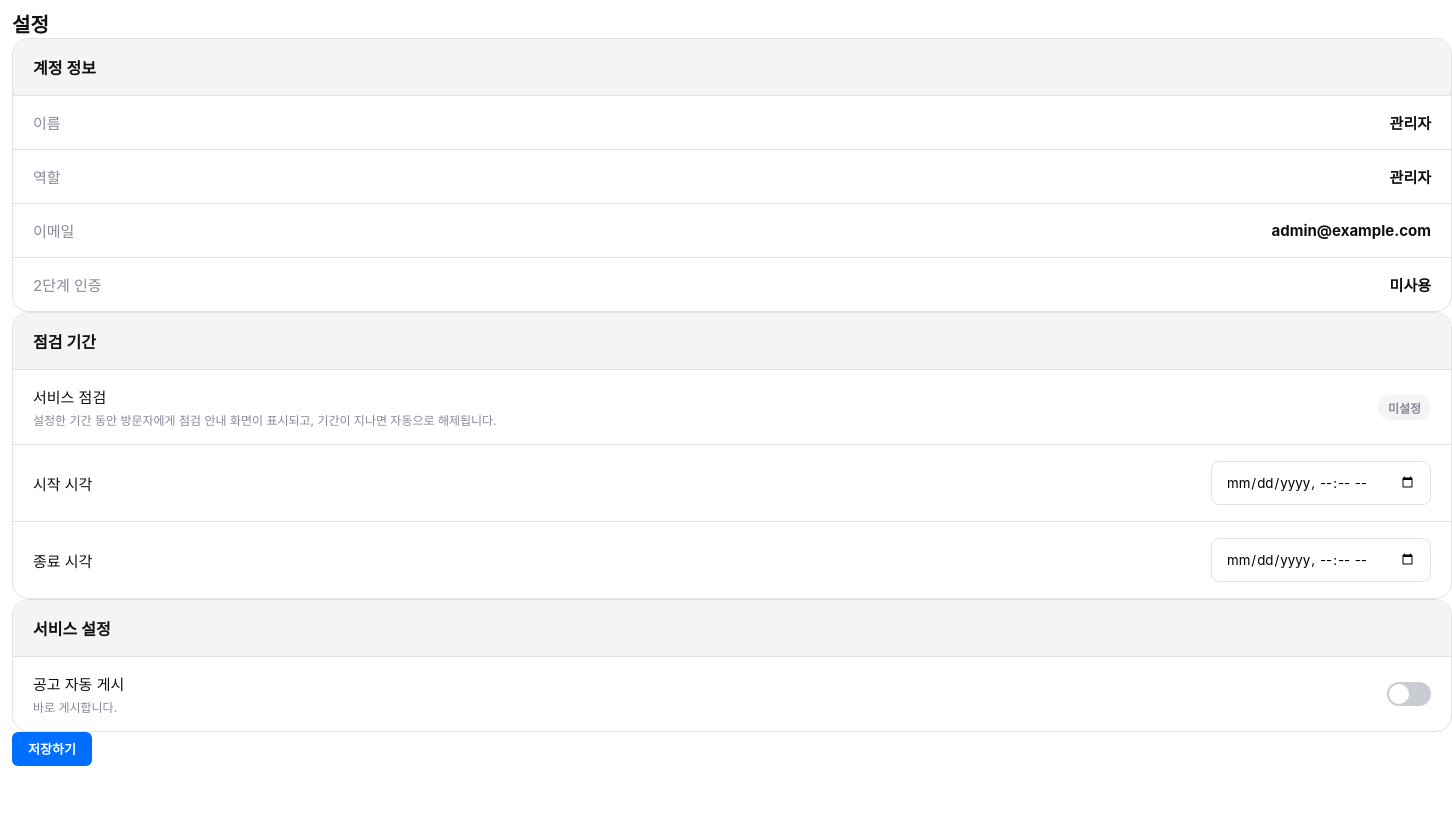
AdminSettingsScreen › 시작 시각이 종료 시각보다 같거나 늦으면 저장하지 않고 안내한다
Type "2099-01-01T05:00" into the field named "점검 시작 시각".
click(1321, 483); type("2099-01-01T05:00")  # box [1211,461,1431,505]
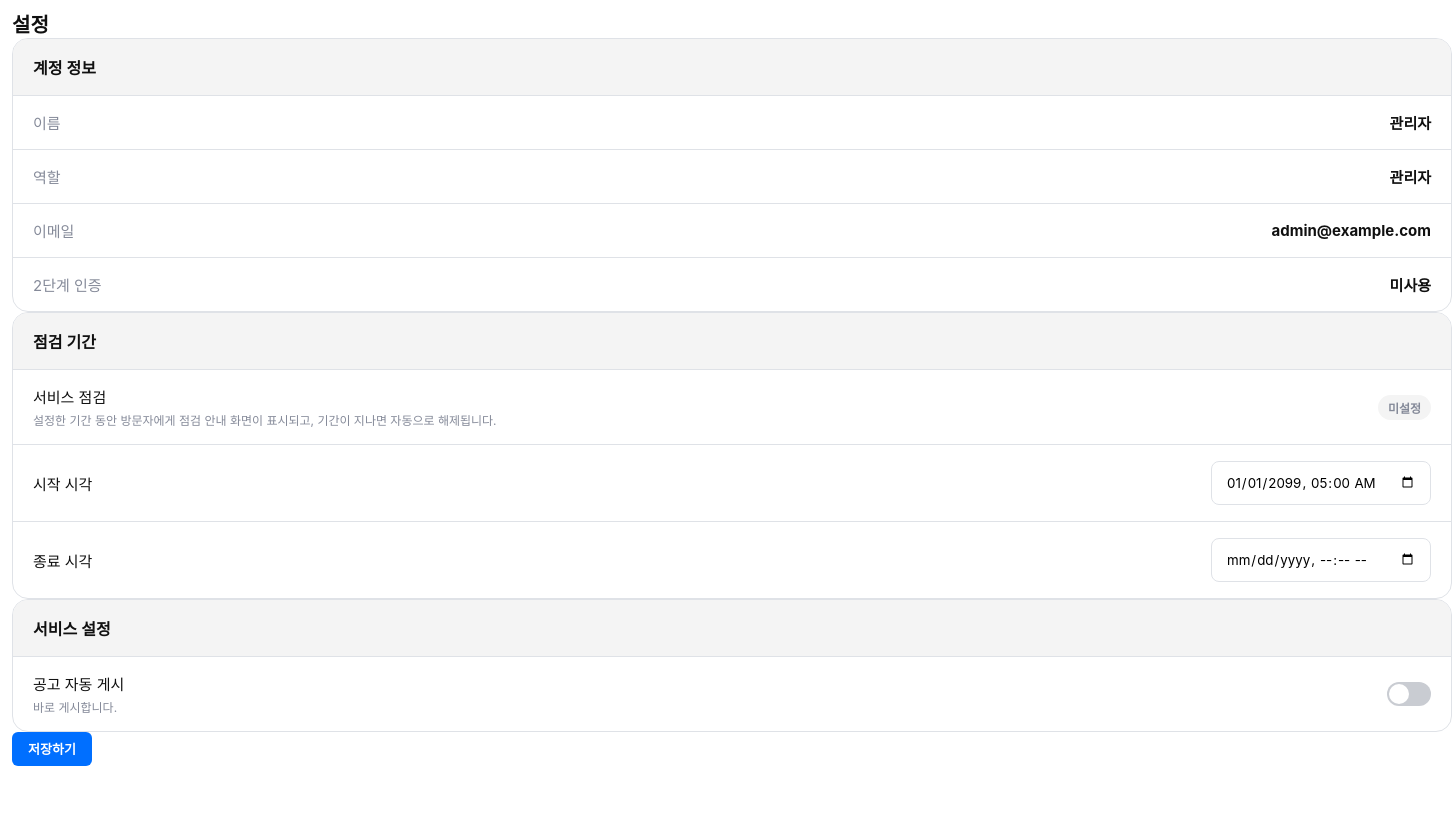
Type "2099-01-01T04:00" into the field named "점검 종료 시각".
click(1321, 560); type("2099-01-01T04:00")  # box [1211,538,1431,582]
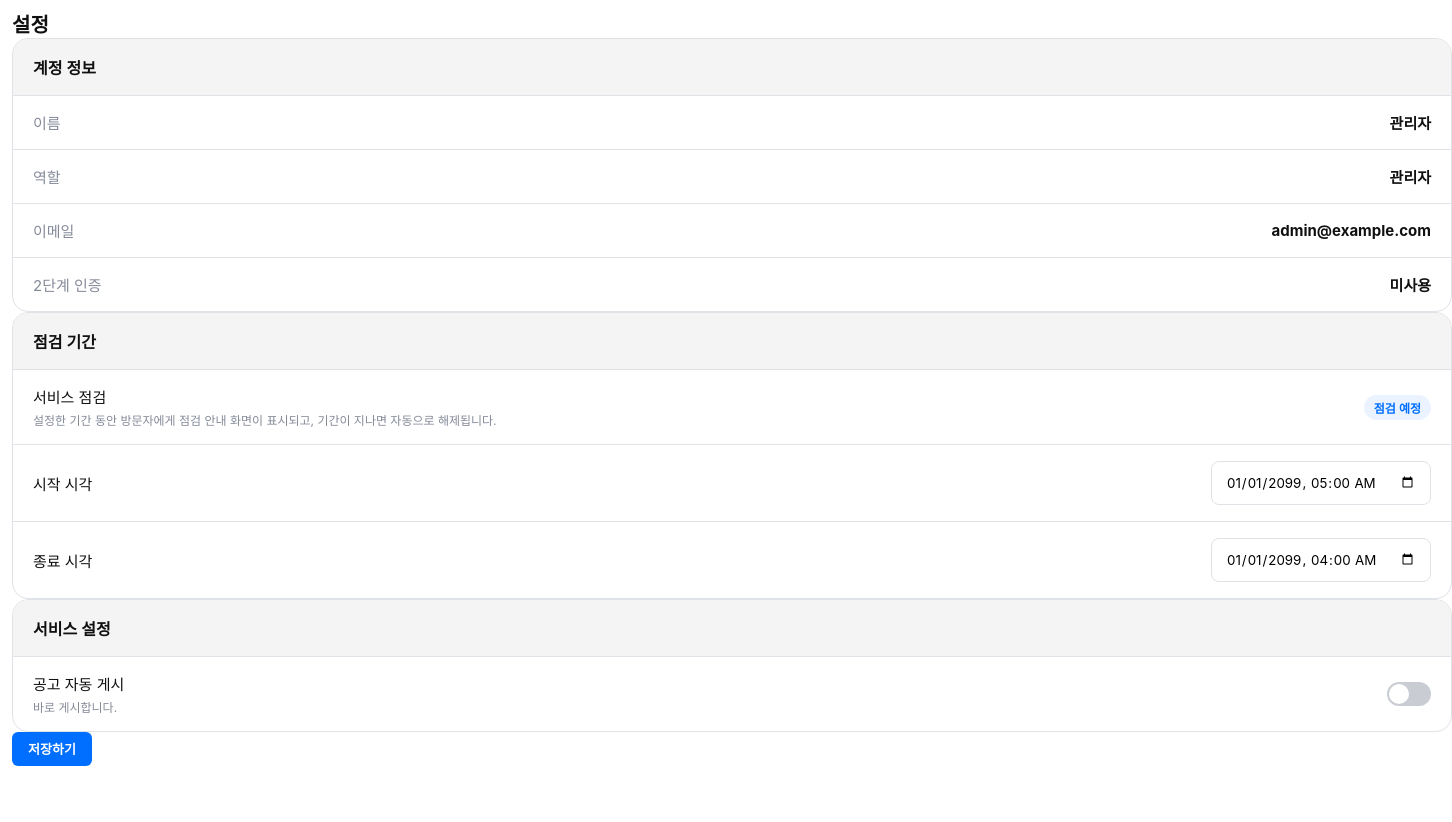
Click the button "저장하기".
click(52, 749)  # box [12,732,92,766]
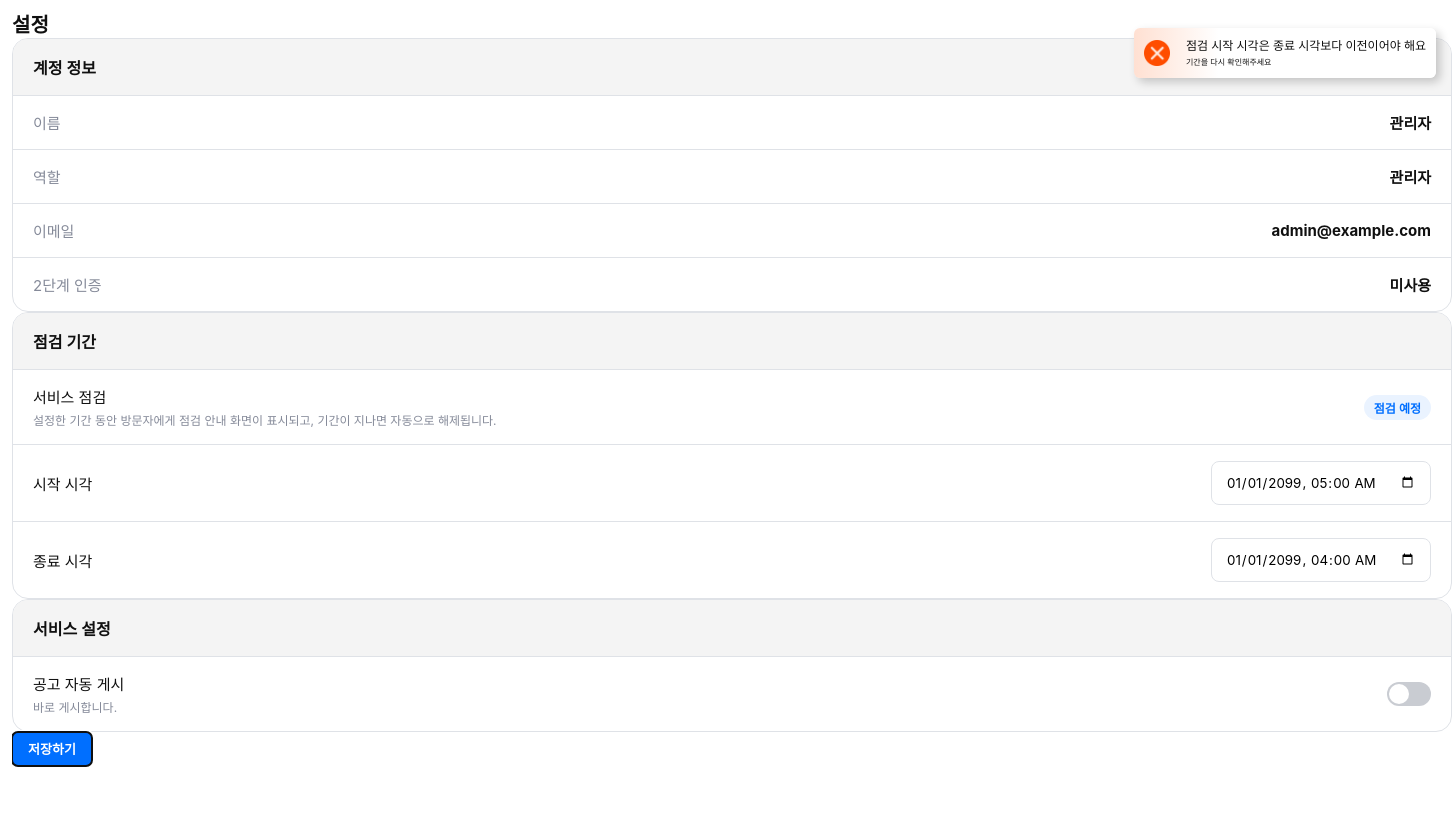
Now the text "점검 시작 시각은 종료 시각보다 이전이어야 해요" is shown, box [1186,38,1426,55]
